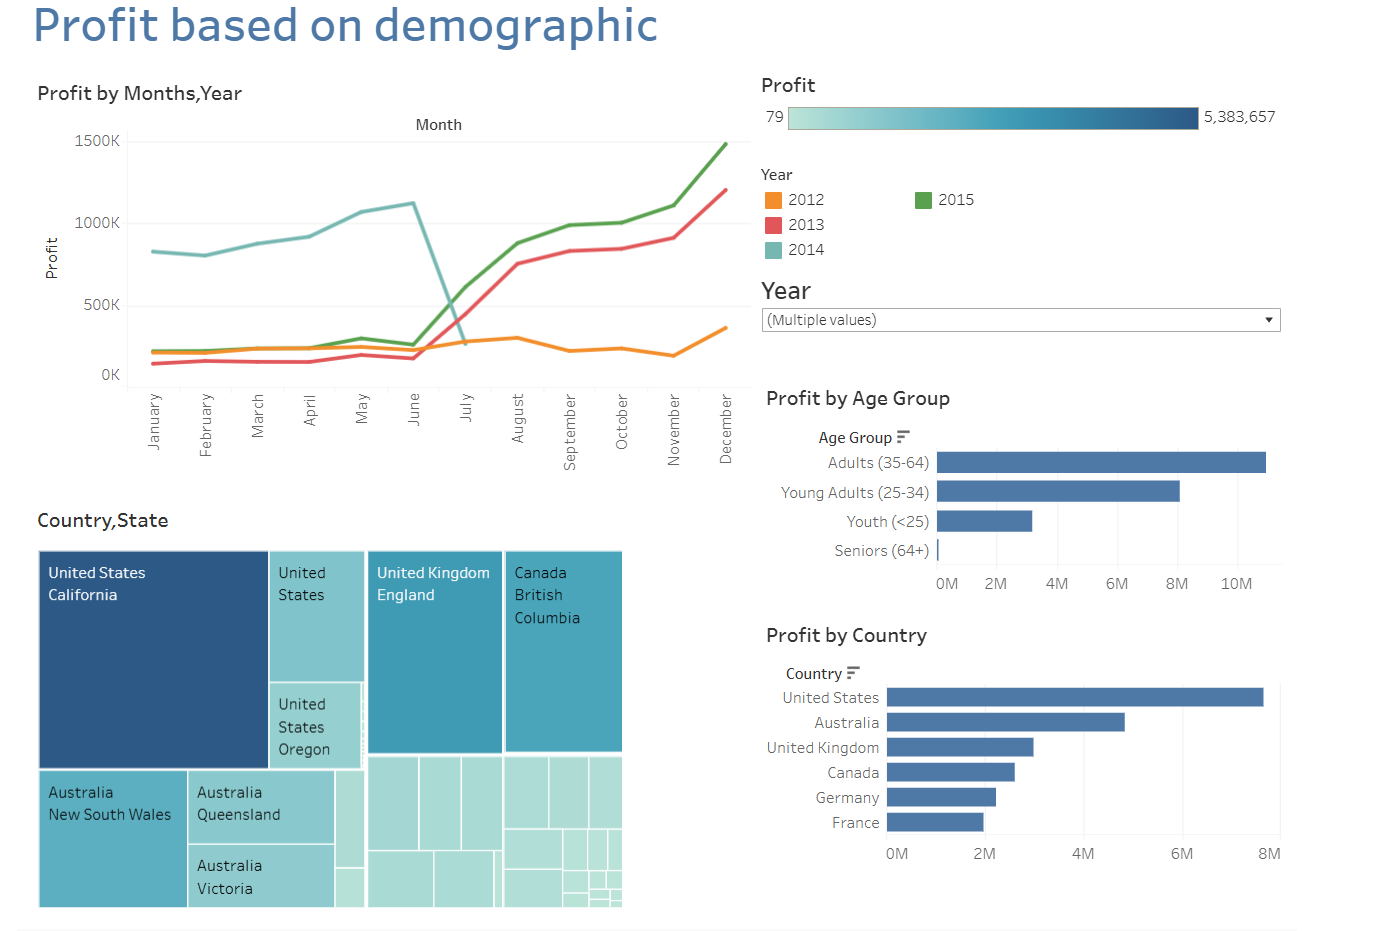

The page's visual inventory and layout, read from the dashboard file:
{"tool":"tableau","page":{"name":"Dashboard 1","canvas":[1000,1000],"units":"permille","ordinal":0},"visuals":[{"type":"title","box":[4.7,9.3,889.3,122]},{"type":"parameter","param":"[Parameters].[Parameter 1]","box":[894,9.3,101.4,142.9]},{"type":"worksheet","title":"Sheet 1","mark":"Automatic","box":[4.7,131.2,566.5,493.5]},{"type":"worksheet","title":"Sheet 2","mark":"Automatic","rows":["Startup Name"],"cols":["Amount in USD"],"box":[571.2,131.2,322.8,434.2]},{"type":"legend","title":"Sheet 3","param":"[federated.0jmvn810yp59rk159plaq1g06squ].[none:Industry Vertical:nk]","box":[894,152.2,101.4,347.3]},{"type":"legend","title":"Sheet 1","param":"[federated.0jmvn810yp59rk159plaq1g06squ].[sum:Amount in USD:qk]","box":[894,499.4,101.4,219.5]},{"type":"worksheet","title":"Sheet 3","mark":"Automatic","box":[571.2,565.4,322.8,425.3]},{"type":"worksheet","title":"Sheet 4","mark":"Automatic","rows":["Investors Name"],"cols":["Amount in USD"],"box":[4.7,624.7,285.5,366]},{"type":"worksheet","title":"Sheet 5","mark":"Automatic","rows":["InvestmentnType"],"cols":["Amount in USD"],"box":[290.2,624.7,281,366]}]}

Visuals, with their boxes on the dashboard's canvas, which has no fixed pixel size, in thousandths of its width and height (x1, y1, x2, y2). These are canvas units, not pixel positions in the 1376x931 screenshot, which may show the page scaled, cropped or inside an application window:
title: [5, 9, 894, 131]
parameter: [894, 9, 995, 152]
"Sheet 1" worksheet: [5, 131, 571, 625]
"Sheet 2" worksheet: [571, 131, 894, 565]
"Sheet 3" legend: [894, 152, 995, 500]
"Sheet 1" legend: [894, 499, 995, 719]
"Sheet 3" worksheet: [571, 565, 894, 991]
"Sheet 4" worksheet: [5, 625, 290, 991]
"Sheet 5" worksheet: [290, 625, 571, 991]
